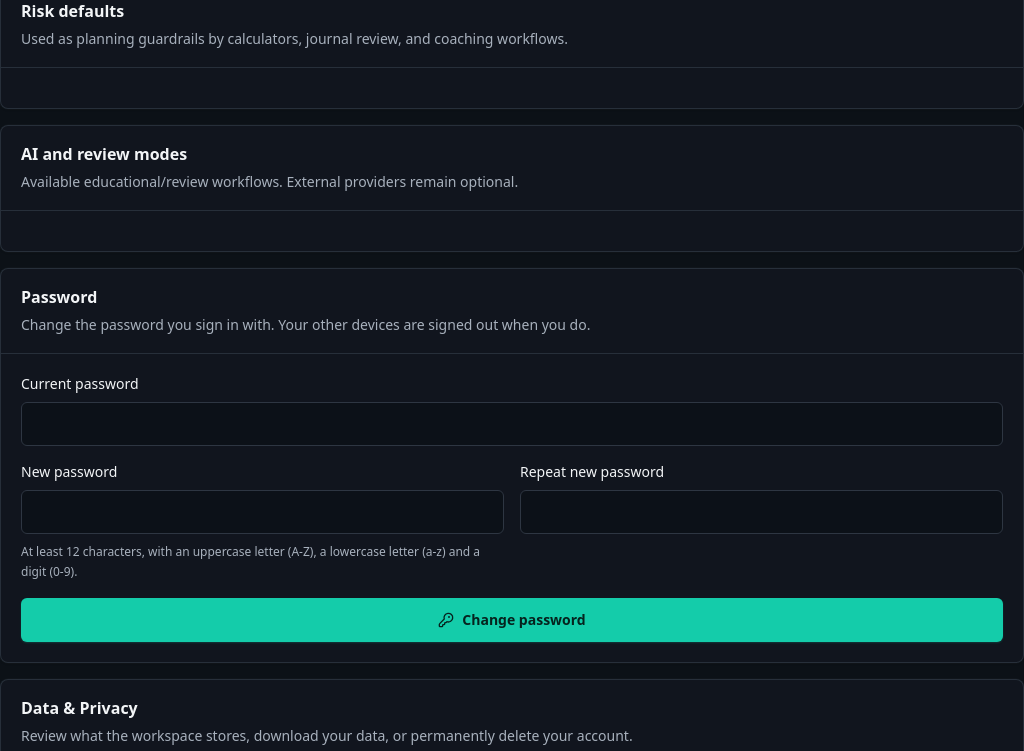
Scenario: Settings password card (en) › changing the password › lets the person try again after a refusal: the button works again and the second request goes out
(page scrolled)
Type "OldPassword123!" into the password field labelled "Current password".
click(512, 424); type("OldPassword123!")  # box [21, 402, 1003, 446]
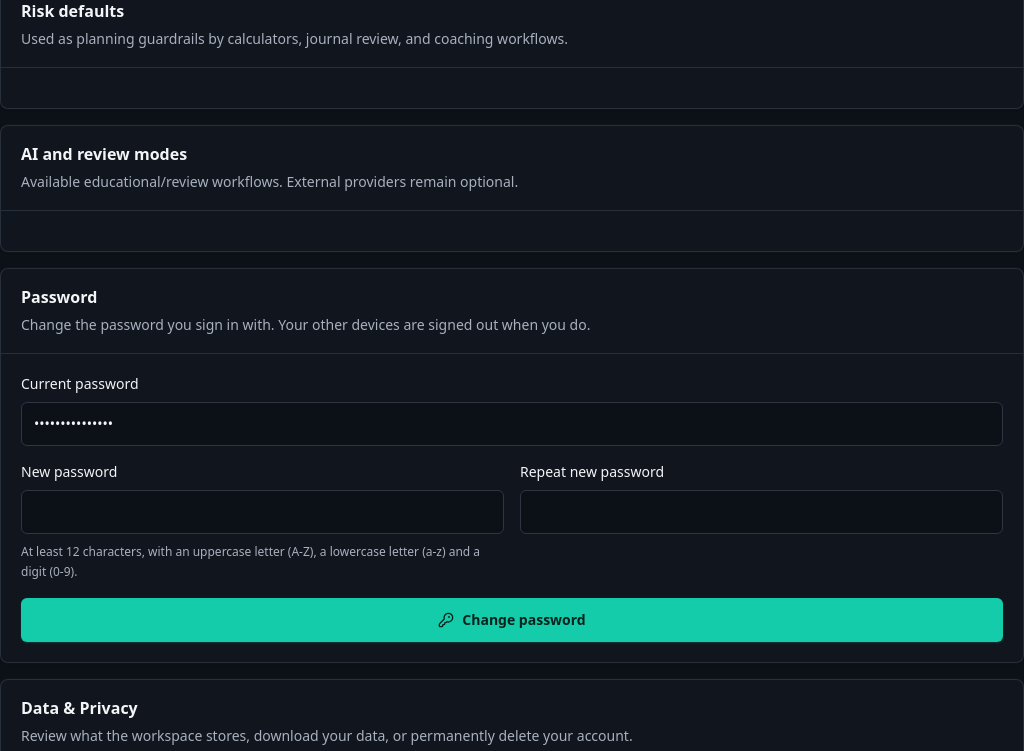
Type "NewPassword456!" into the password field labelled "New password".
click(262, 512); type("NewPassword456!")  # box [21, 490, 504, 534]
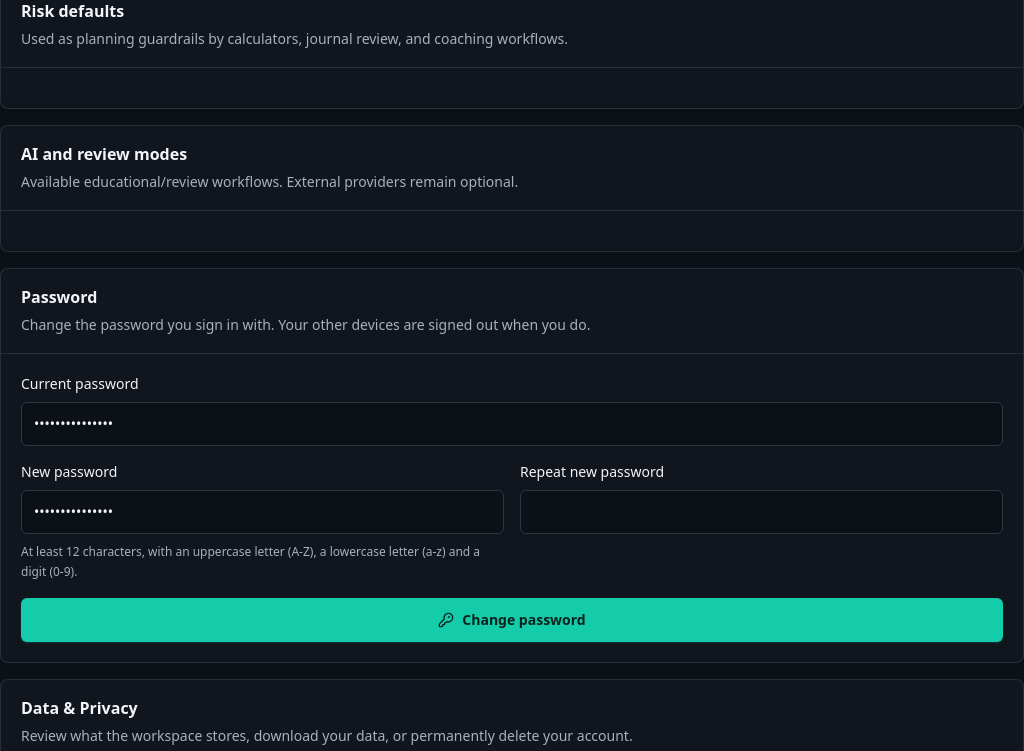
Type "NewPassword456!" into the password field labelled "Repeat new password".
click(762, 512); type("NewPassword456!")  # box [520, 490, 1003, 534]
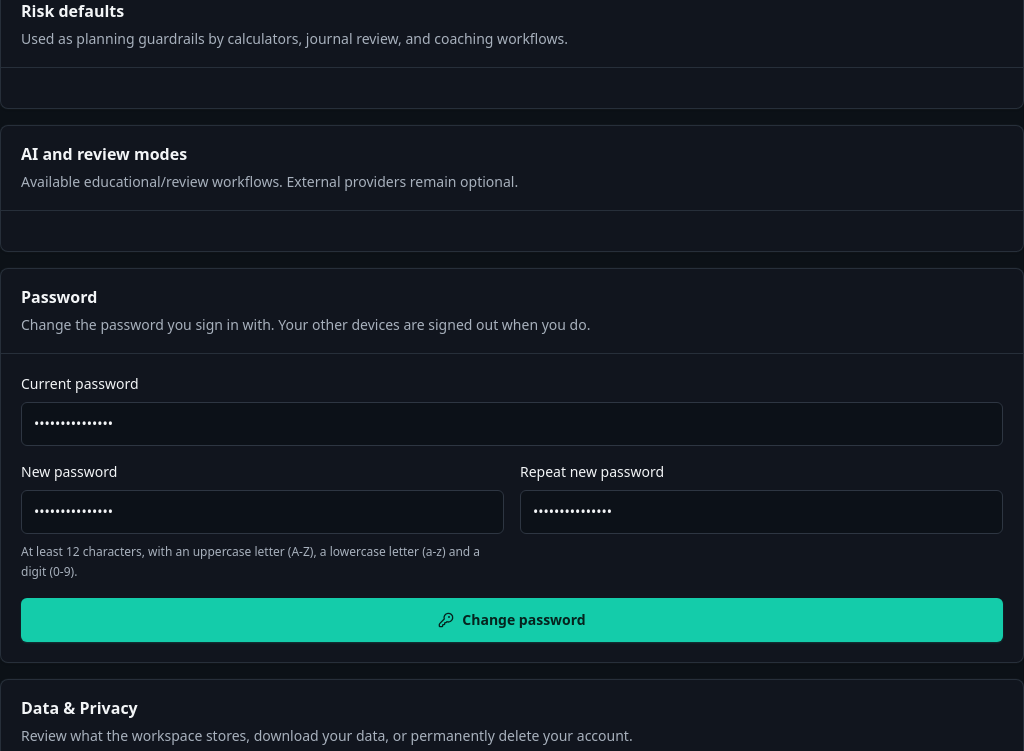
Submit the form labelled "Current password", box [21, 374, 1003, 642]
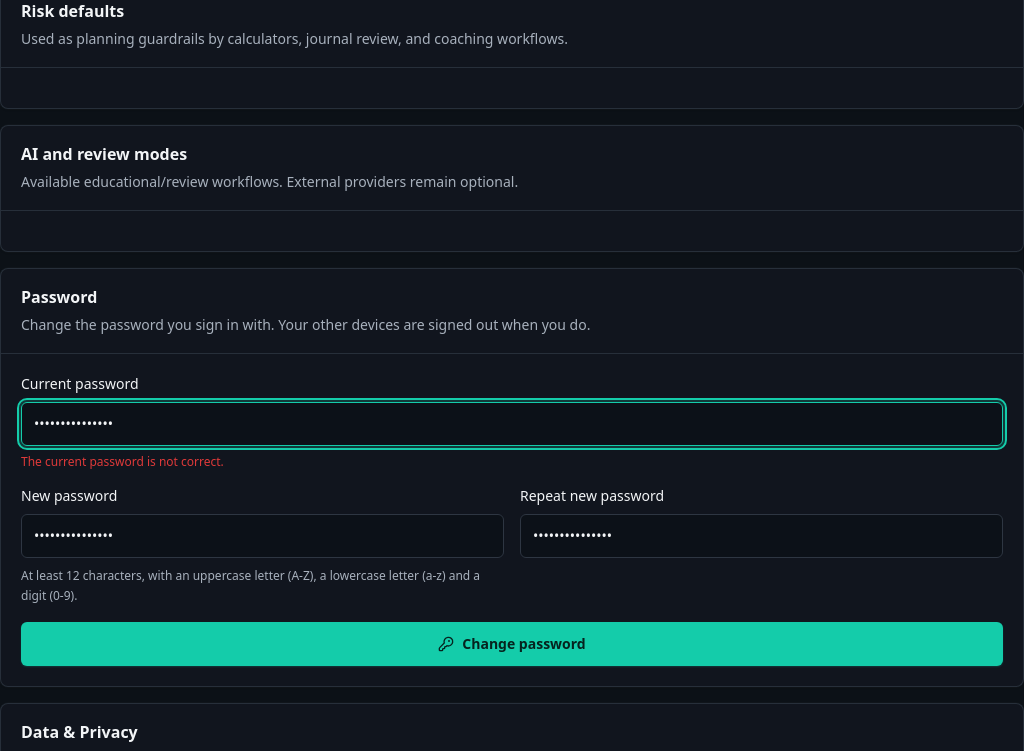
Expected: the text "The current password is not correct." is shown, [21, 453, 224, 470]
Click the button "Change password".
click(512, 644)  # box [21, 622, 1003, 666]
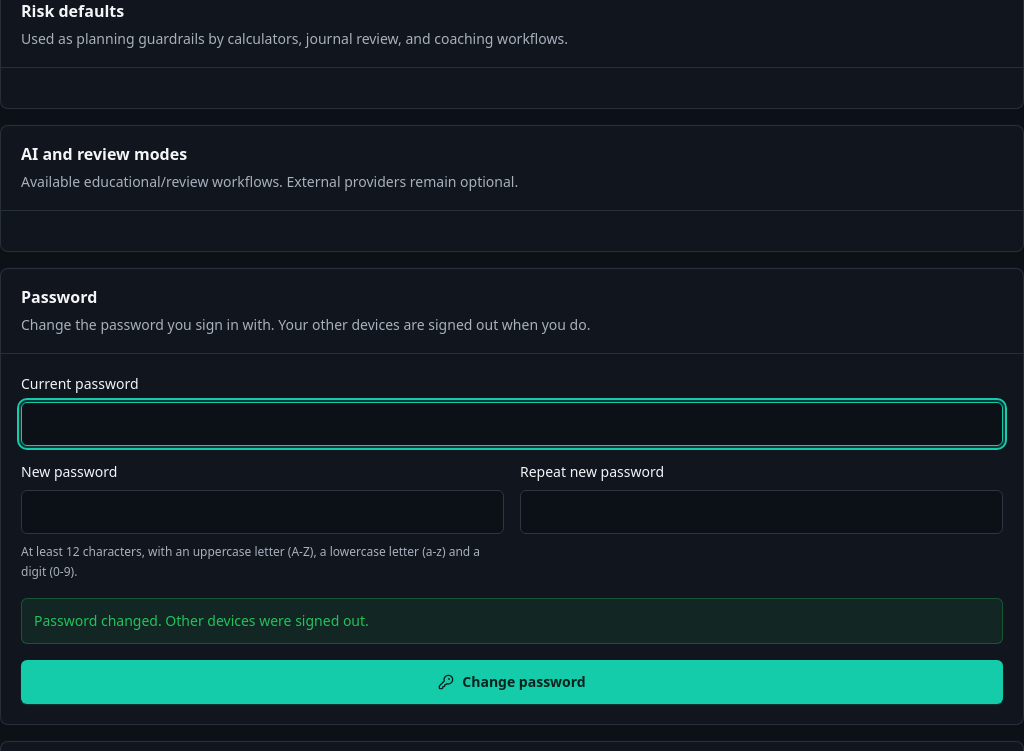
Expected: the message reads "Password changed. Other devices were signed out.", [34, 611, 369, 630]
Expected: the text "The current password is not correct." is gone
